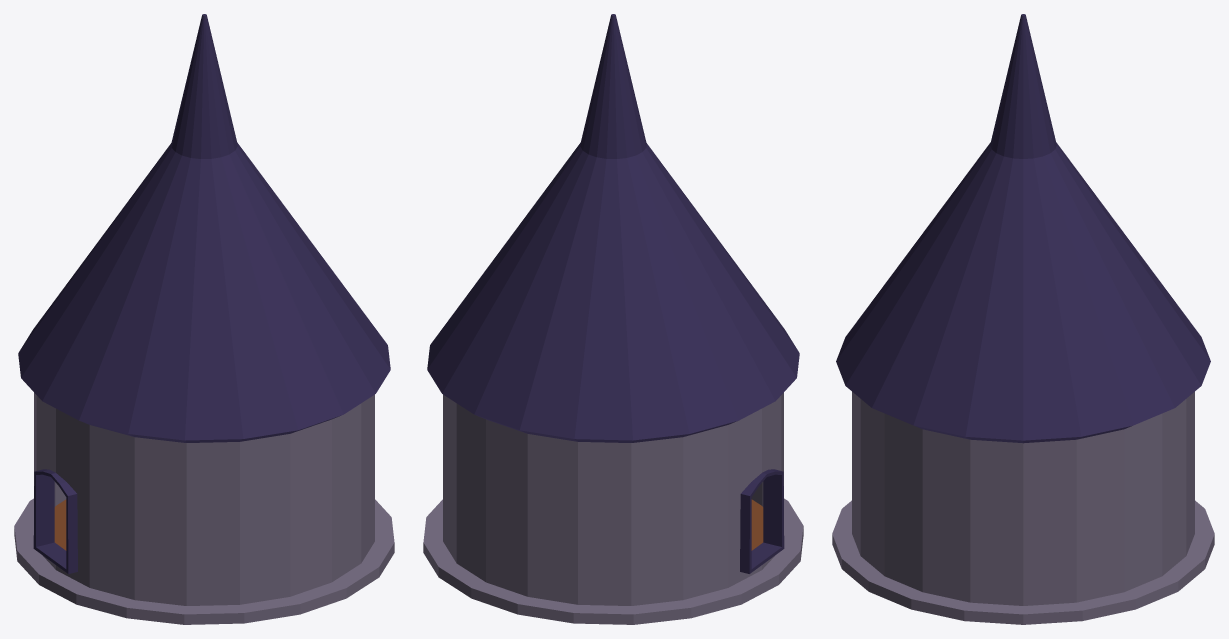
File: tower_workroom_v4.fbx
3 views of the same model, side by side, from view 1: azimuth 30°, elevation 25°; view 2: azimuth 150°, elevation 25°; view 3: azimuth 270°, elevation 25° (orthographic).
Parts seen in each view (by area): view 1: Cylinder.021, Cylinder.023, Cylinder.022; view 2: Cylinder.021, Cylinder.023, Cylinder.022; view 3: Cylinder.021, Cylinder.023.
Part boxes in pixels (x1=…): Cylinder.021: x1=18, y1=14, x2=390, y2=605; Cylinder.023: x1=14, y1=498, x2=394, y2=624; Cylinder.022: x1=33, y1=469, x2=77, y2=573; Cylinder.021: x1=427, y1=14, x2=799, y2=605; Cylinder.023: x1=423, y1=498, x2=803, y2=624; Cylinder.022: x1=740, y1=469, x2=784, y2=573; Cylinder.021: x1=836, y1=14, x2=1210, y2=605; Cylinder.023: x1=832, y1=500, x2=1214, y2=624.
Size of the model in its own units: 1560 by 2385 by 1562.
